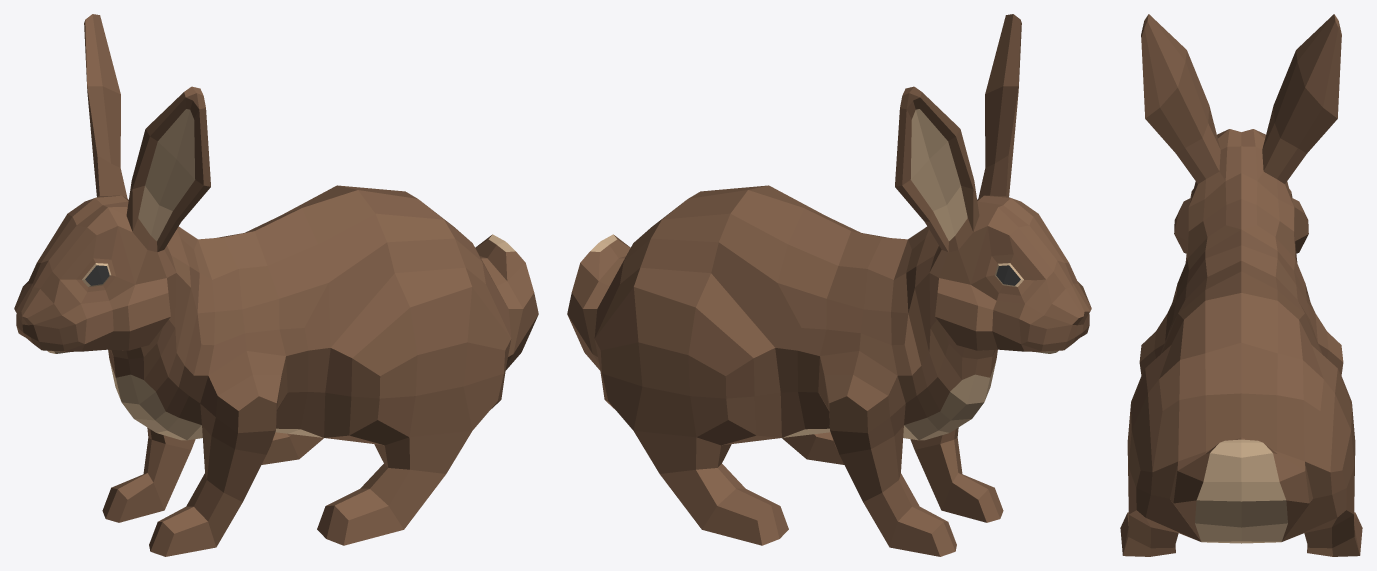
The model's file is CharMod Rabbit.fbx.
The picture shows the model from 3 angles, left to right: view 1: azimuth 30°, elevation 25°; view 2: azimuth 150°, elevation 25°; view 3: azimuth 270°, elevation 25°; orthographic projection. The views are drawn at different scales.
Visible parts, largest first — view 1: Kelinci; view 2: Kelinci; view 3: Kelinci.
Boxes of the visible parts, box(x1,y1,x2,y2) form: Kelinci: box(14, 14, 538, 556); Kelinci: box(567, 14, 1091, 556); Kelinci: box(1120, 14, 1362, 556).
Bounding box in the file's own units: 82.22 × 75.79 × 36.87.
